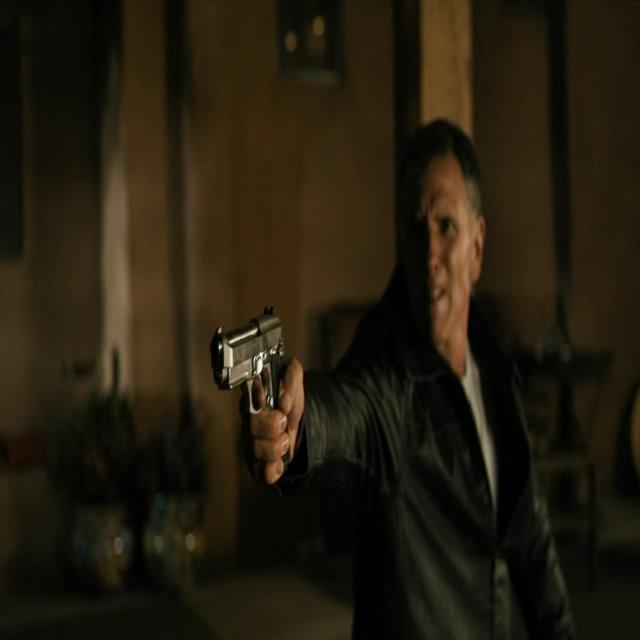gun-knife-thesis - v11 Yolov5 augmented: (211, 303, 293, 481)
